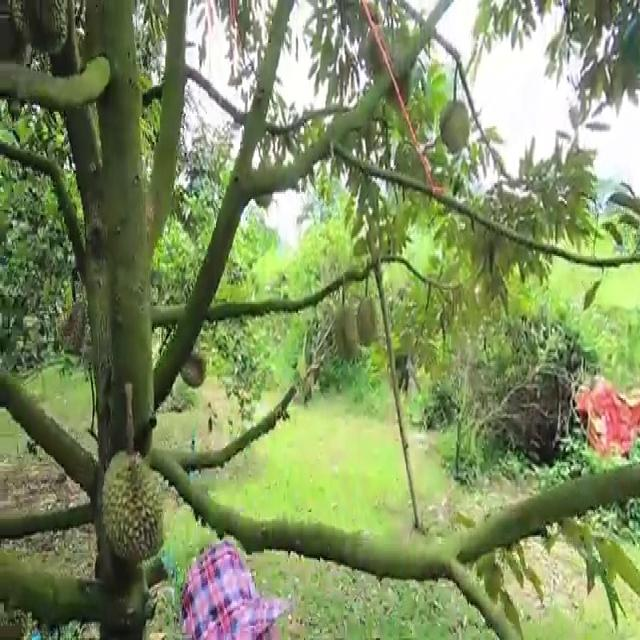durian: (97, 443, 168, 567), (10, 0, 71, 58), (330, 296, 361, 376), (434, 98, 474, 157), (57, 294, 90, 362), (351, 290, 382, 355), (250, 150, 277, 209), (175, 350, 210, 391)
